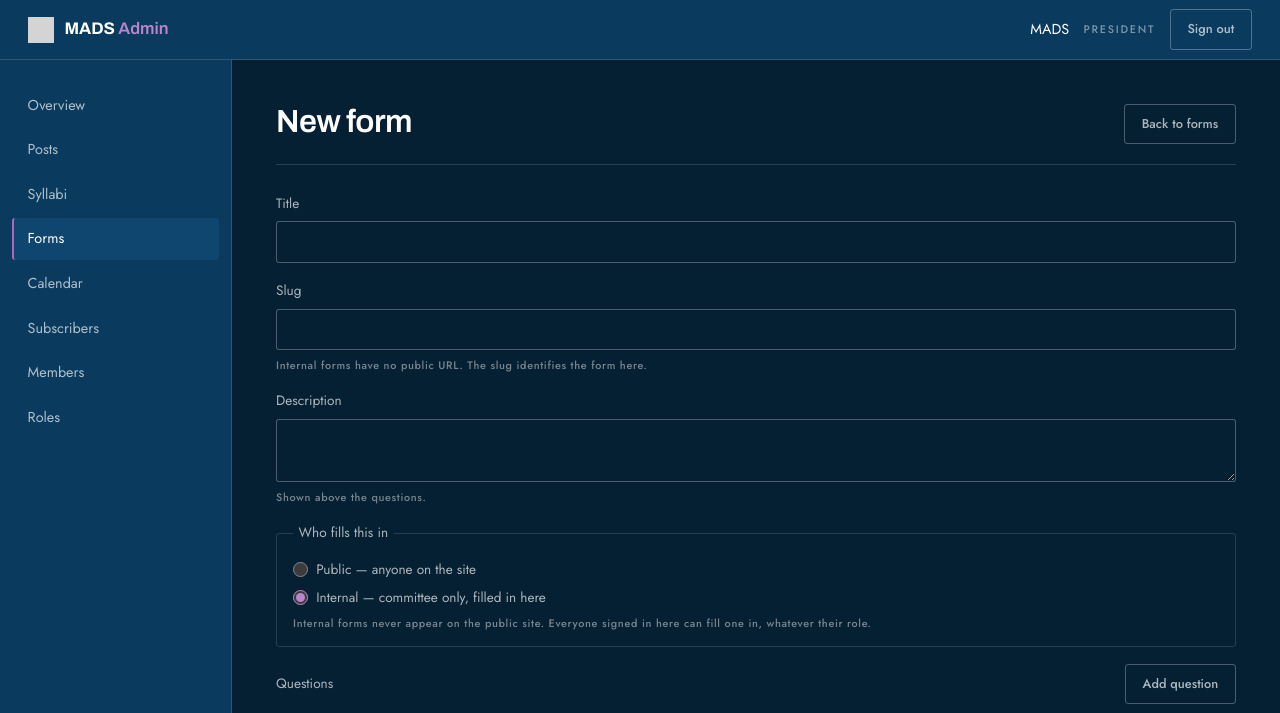
Test case: FormEditor › creates an internal form by default, with the questions that were added
The width and height of the screenshot is (1280, 713).
Type "Equipment loan" into the field labelled "Title" at [756, 242], box [276,221,1236,263]
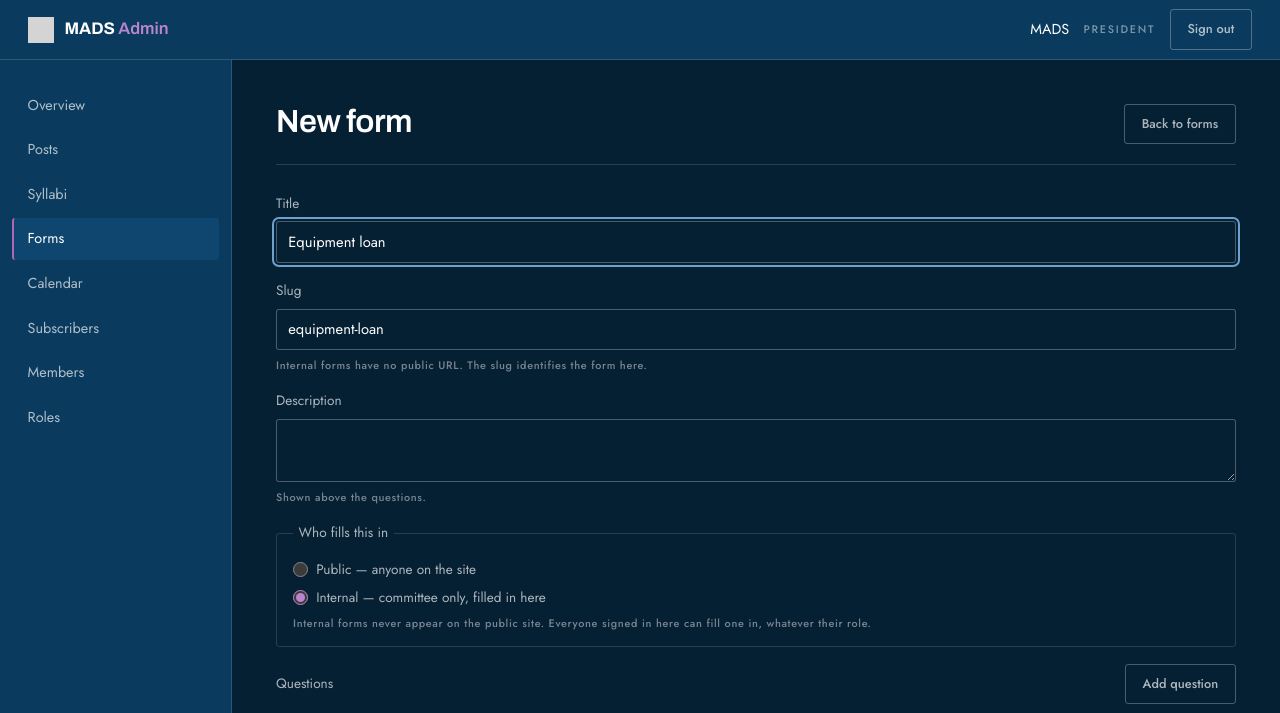
Click the button "Add question" at [1180, 684], box [1125,664,1236,704]
(page scrolled)
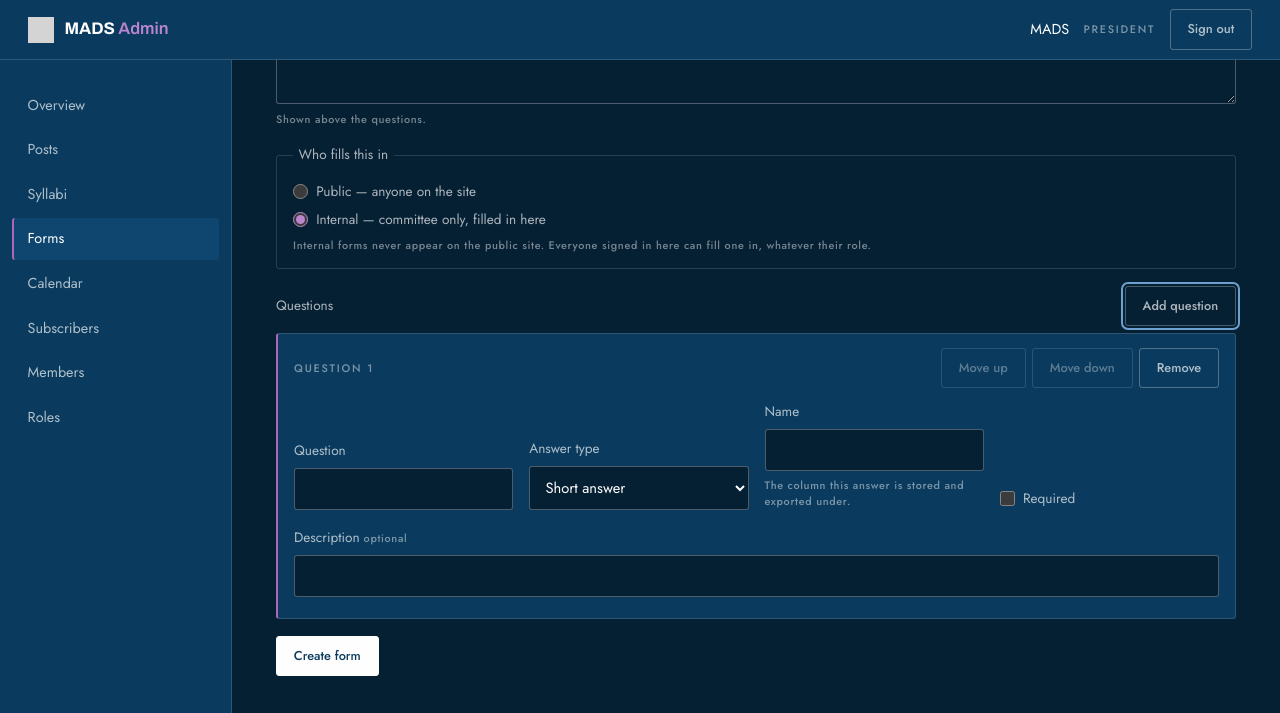
Type "What do you need?" into the field labelled "Question" at [404, 489], box [294,468,513,510]
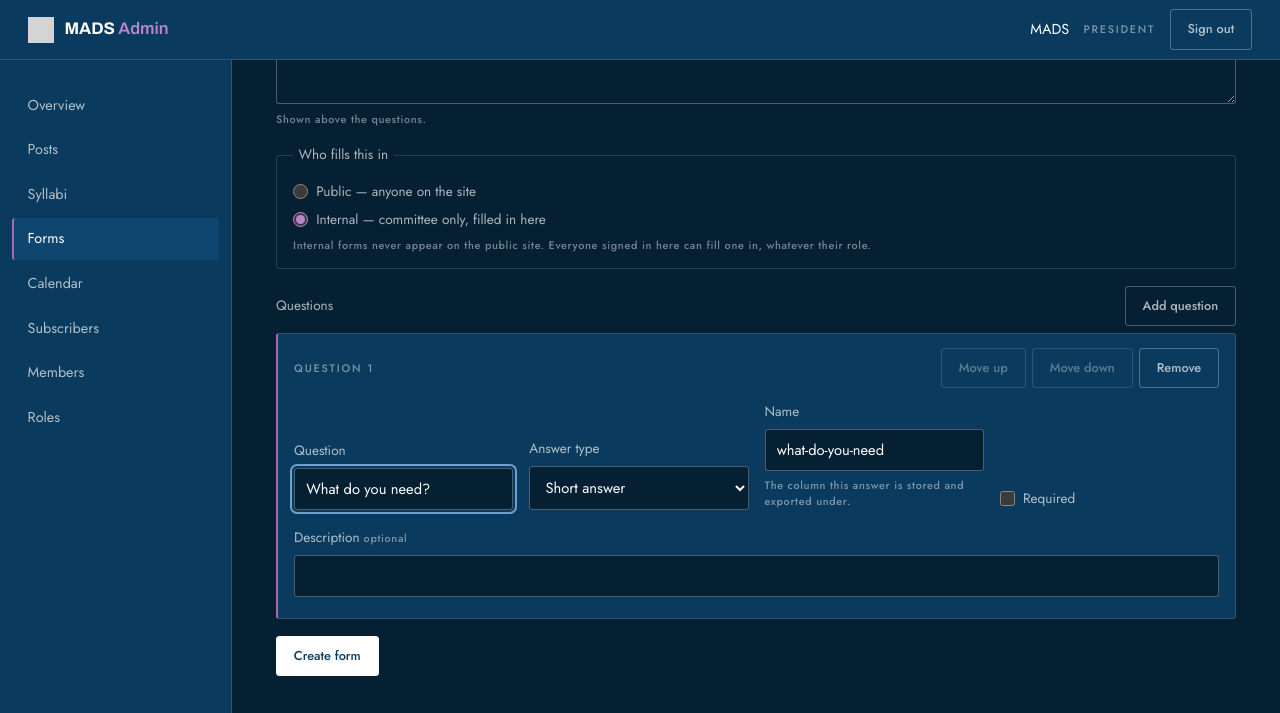
Click the checkbox labelled "Required" at [1007, 499], box [1000,491,1015,506]
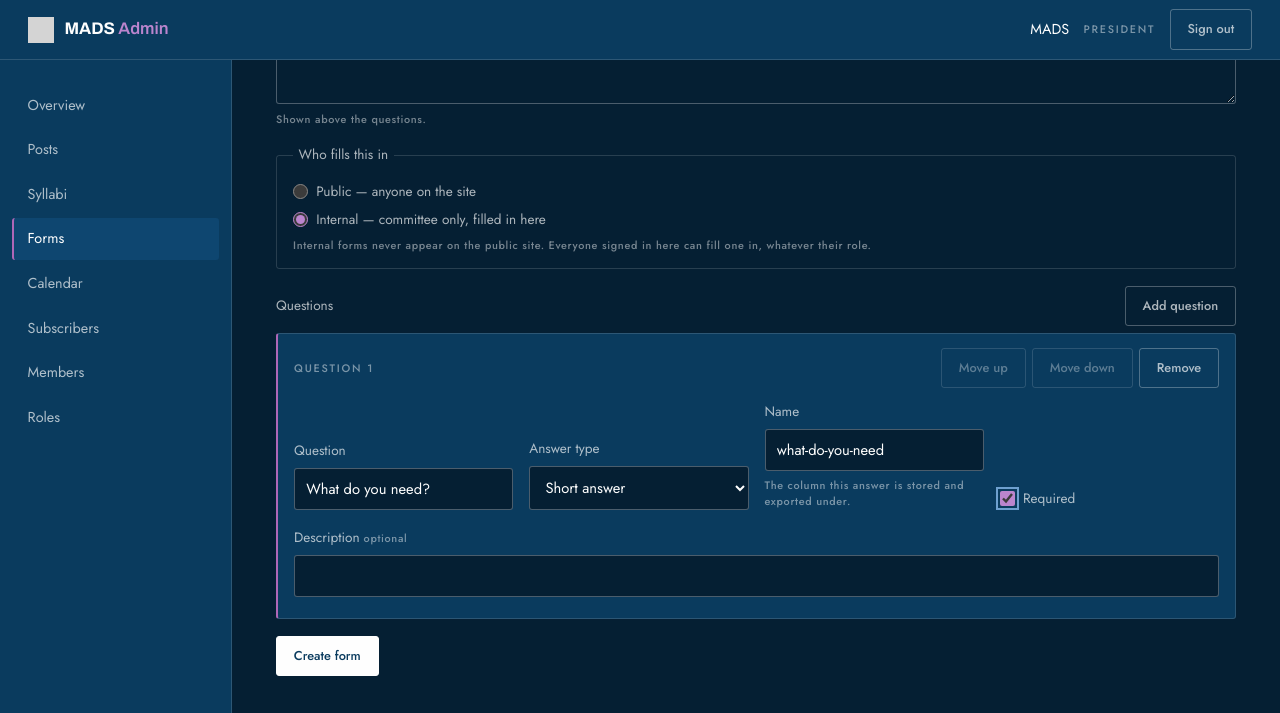
Click the button "Create form" at [327, 656], box [276,636,379,676]
(page scrolled)
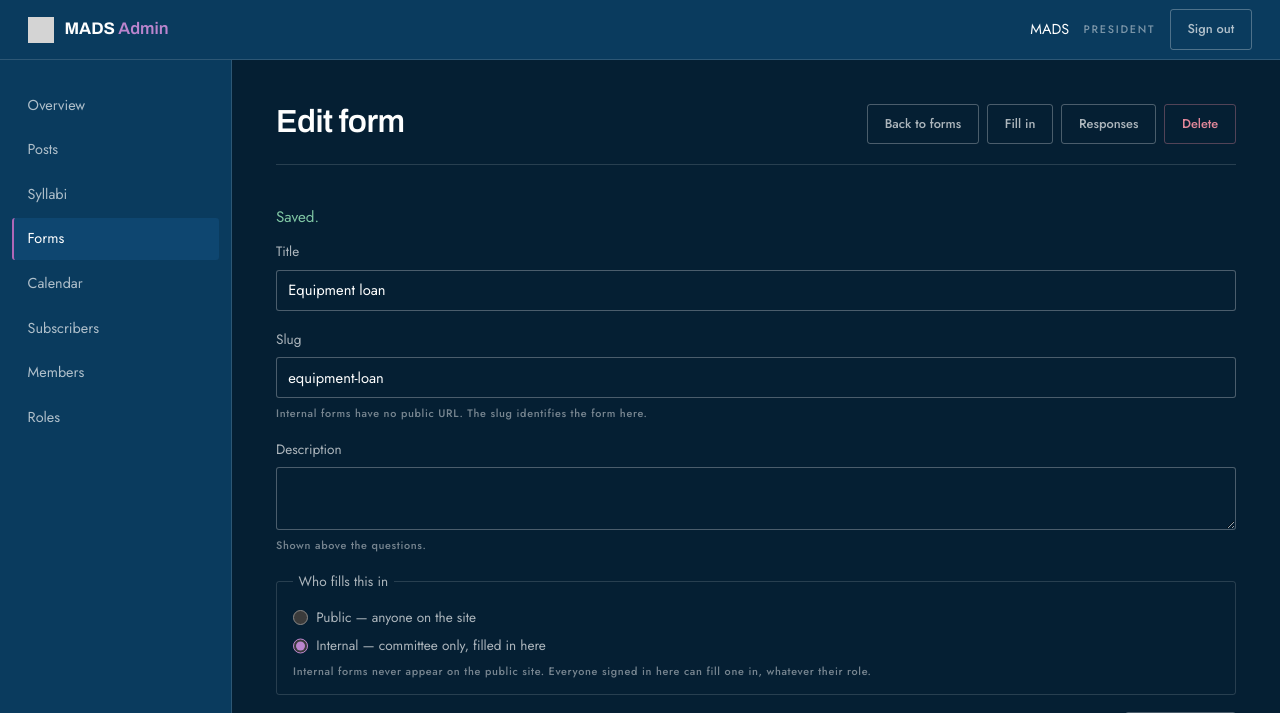
Now the message shows "Saved", box [276,206,319,228]
